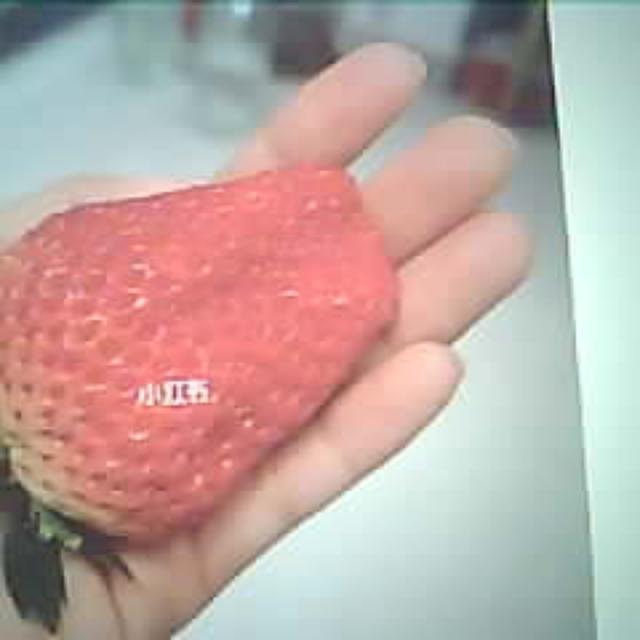ripe: (0, 164, 398, 541)
